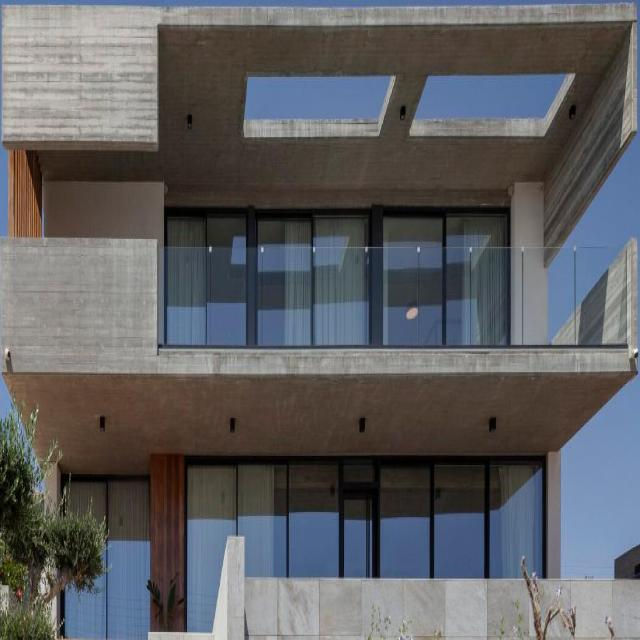door: (339, 482, 378, 575)
railing: (156, 247, 629, 353)
window: (185, 456, 549, 639), (62, 472, 150, 639), (167, 204, 511, 243), (310, 206, 381, 246), (205, 209, 255, 245)
